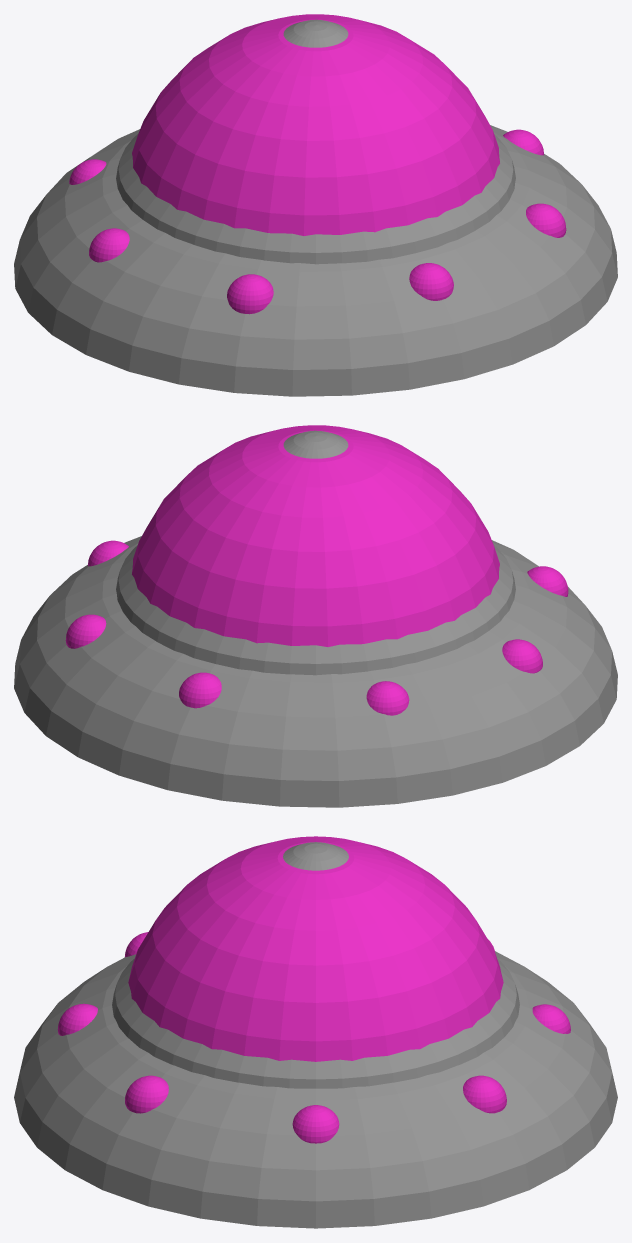
The model's file is EnemyUFONight.fbx.
The picture shows the model from 3 angles, top to bottom: view 1: azimuth 30°, elevation 25°; view 2: azimuth 150°, elevation 25°; view 3: azimuth 270°, elevation 25°; orthographic projection.
Visible parts, largest first — view 1: Sphere.001, Sphere, Torus, Sphere.008, Sphere.010, Sphere.005, Sphere.003, Sphere.007, Sphere.002, Sphere.009; view 2: Sphere.001, Sphere, Torus, Sphere.010, Sphere.004, Sphere.009, Sphere.003, Sphere.006, Sphere.008, Sphere.002; view 3: Sphere.001, Sphere, Torus, Sphere.010, Sphere.002, Sphere.007, Sphere.006, Sphere.005, Sphere.004.
Boxes of the visible parts, box(x1,y1,x2,y2) form: Sphere.001: box(14, 125, 617, 396); Sphere: box(132, 14, 499, 235); Torus: box(116, 134, 515, 264); Sphere.008: box(227, 274, 273, 314); Sphere.010: box(283, 19, 348, 47); Sphere.005: box(409, 263, 453, 300); Sphere.003: box(89, 228, 129, 262); Sphere.007: box(526, 203, 566, 237); Sphere.002: box(503, 129, 543, 155); Sphere.009: box(69, 159, 106, 184); Sphere.001: box(14, 536, 617, 807); Sphere: box(132, 425, 499, 646); Torus: box(116, 545, 515, 675); Sphere.010: box(283, 430, 348, 458); Sphere.004: box(179, 672, 221, 708); Sphere.009: box(366, 681, 409, 715); Sphere.003: box(502, 639, 542, 673); Sphere.006: box(65, 614, 106, 648); Sphere.008: box(527, 566, 568, 596); Sphere.002: box(88, 540, 128, 566); Sphere.001: box(14, 951, 617, 1228); Sphere: box(128, 836, 503, 1061); Torus: box(112, 958, 519, 1088); Sphere.010: box(283, 842, 348, 870); Sphere.002: box(292, 1105, 339, 1143); Sphere.007: box(125, 1075, 168, 1113); Sphere.006: box(463, 1075, 506, 1113); Sphere.005: box(57, 1003, 97, 1035); Sphere.004: box(532, 1004, 570, 1033).
Bounding box in the file's own units: 316 × 155 × 307.
